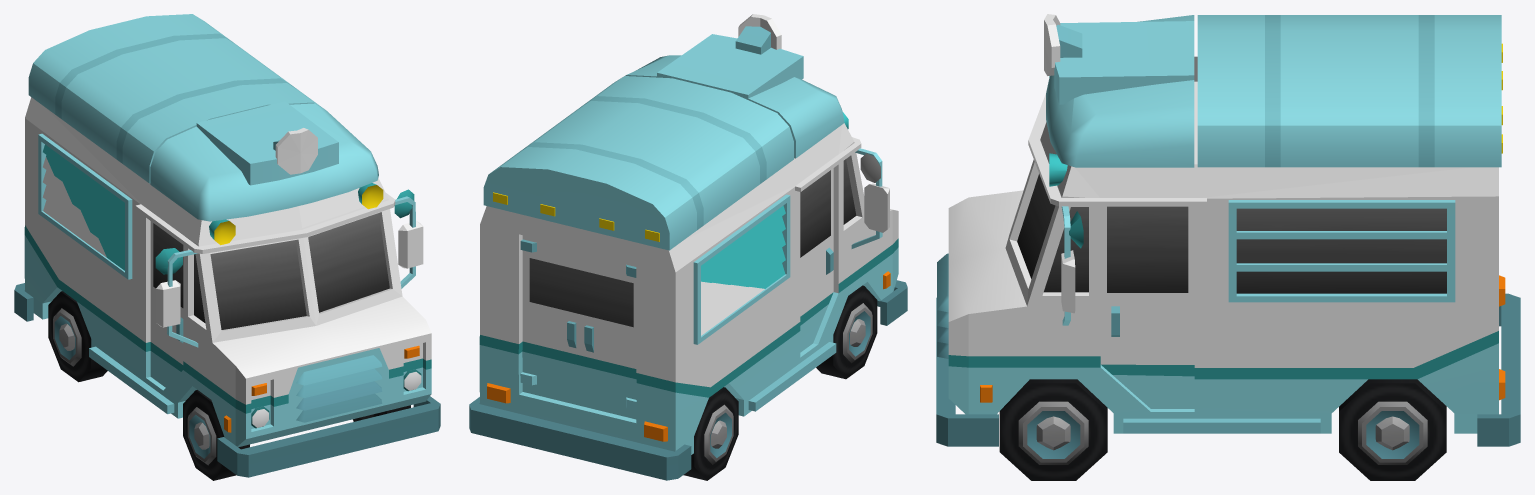
The model's file is head_SP1_2.fbx.
3 views of the same model, side by side, from view 1: azimuth 30°, elevation 25°; view 2: azimuth 150°, elevation 25°; view 3: azimuth 270°, elevation 25° (orthographic). The views are drawn at different scales.
Visible parts, largest first — view 1: head_SP1_2; view 2: head_SP1_2; view 3: head_SP1_2.
Boxes of the visible parts, box(x1,y1,x2,y2) form: head_SP1_2: box(14, 14, 440, 480); head_SP1_2: box(469, 14, 907, 480); head_SP1_2: box(936, 14, 1520, 480).
Bounding box in the file's own units: 1988 × 2305 × 3017.
